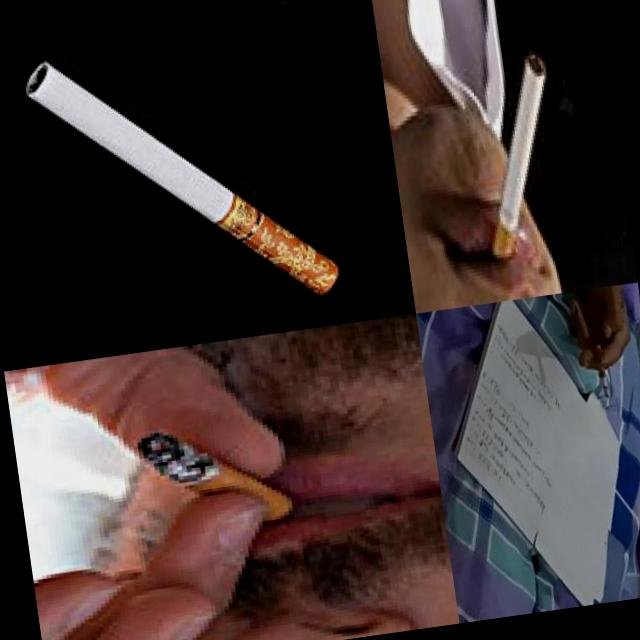smoke: (19, 22, 344, 330), (459, 50, 574, 278), (134, 414, 296, 540), (596, 344, 610, 398)
